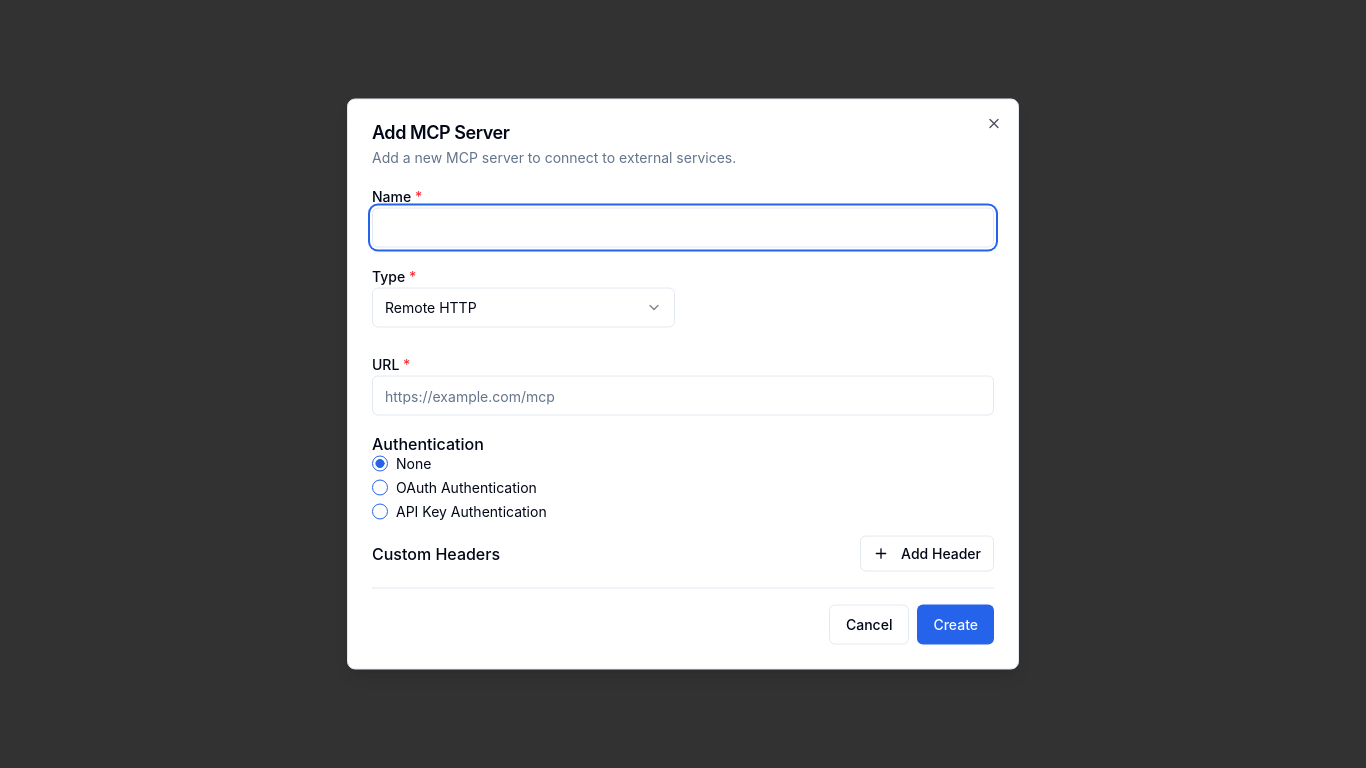
Scenario: McpServerForm › should validate empty name
Expected: the dialog is shown, [347, 98, 1019, 670]
Type "https://example.com" into the field with id "server-url" at point(683, 396), box [372, 376, 994, 416]
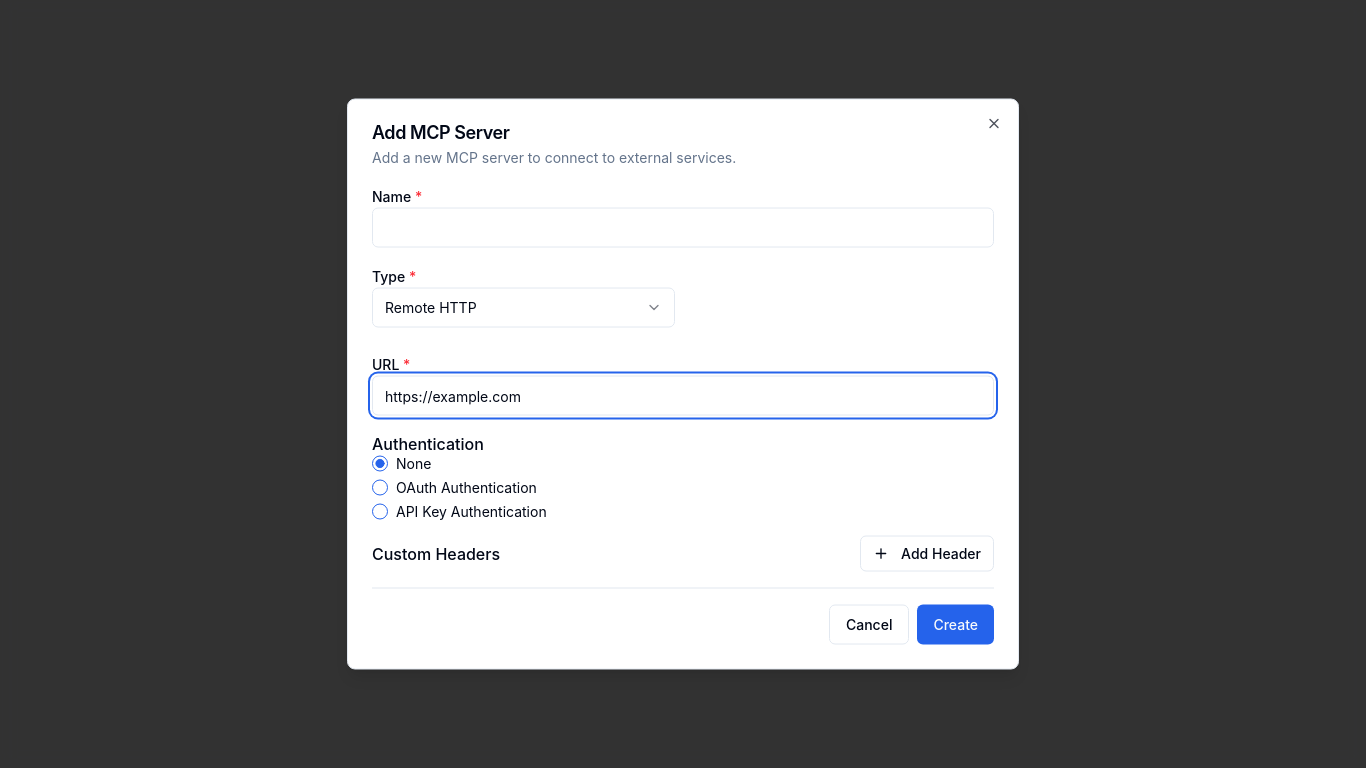
Click the button "Create" at point(956, 624), box [917, 604, 994, 644]
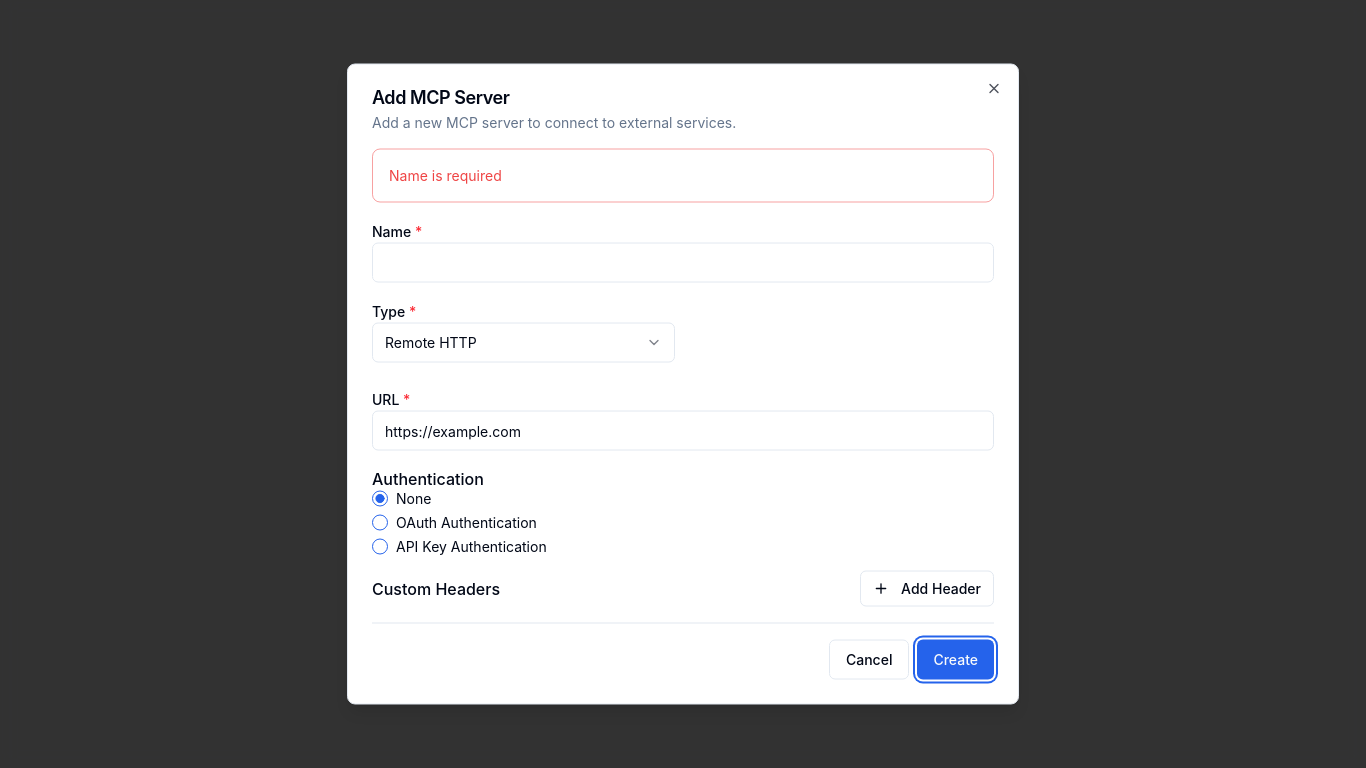
Expected: the text "Name is required" is shown, [389, 166, 502, 184]
